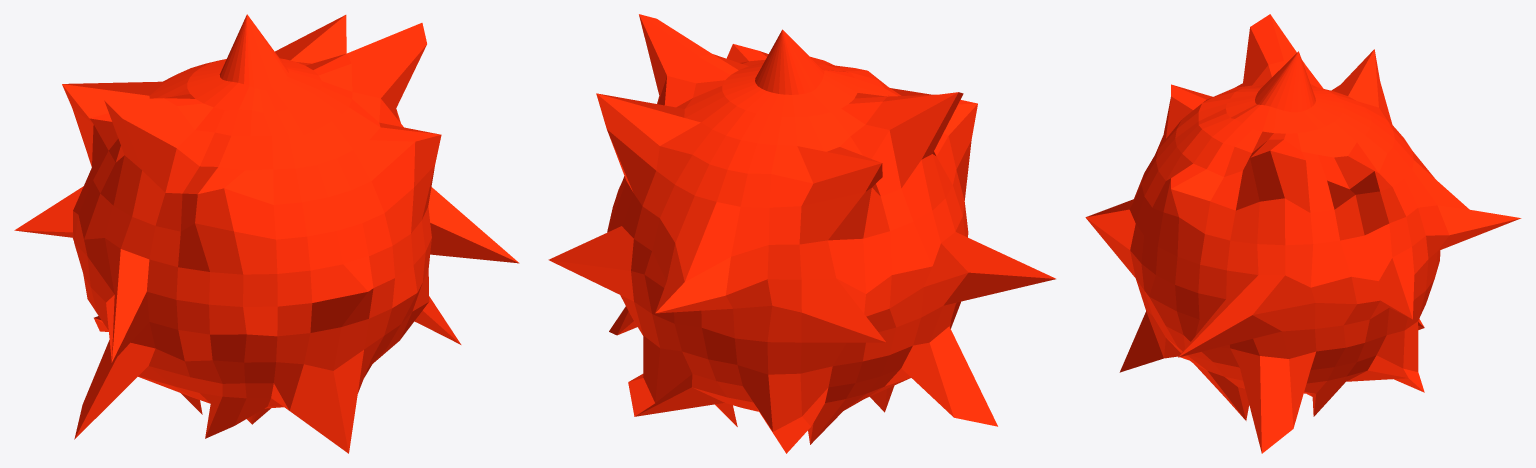
Rendered from roller.glb.
3 renders of one model, left to right at view 1: azimuth 30°, elevation 25°; view 2: azimuth 150°, elevation 25°; view 3: azimuth 270°, elevation 25°, orthographic. The views are drawn at different scales.
Parts seen in each view (by area): view 1: Sphere; view 2: Sphere; view 3: Sphere.
Part boxes in pixels (box(x1,y1,x2,y2)): Sphere: box(14, 14, 519, 453); Sphere: box(548, 14, 1055, 453); Sphere: box(1085, 14, 1521, 453).
Bounding box in the file's own units: 13.35 × 12.73 × 14.05.
